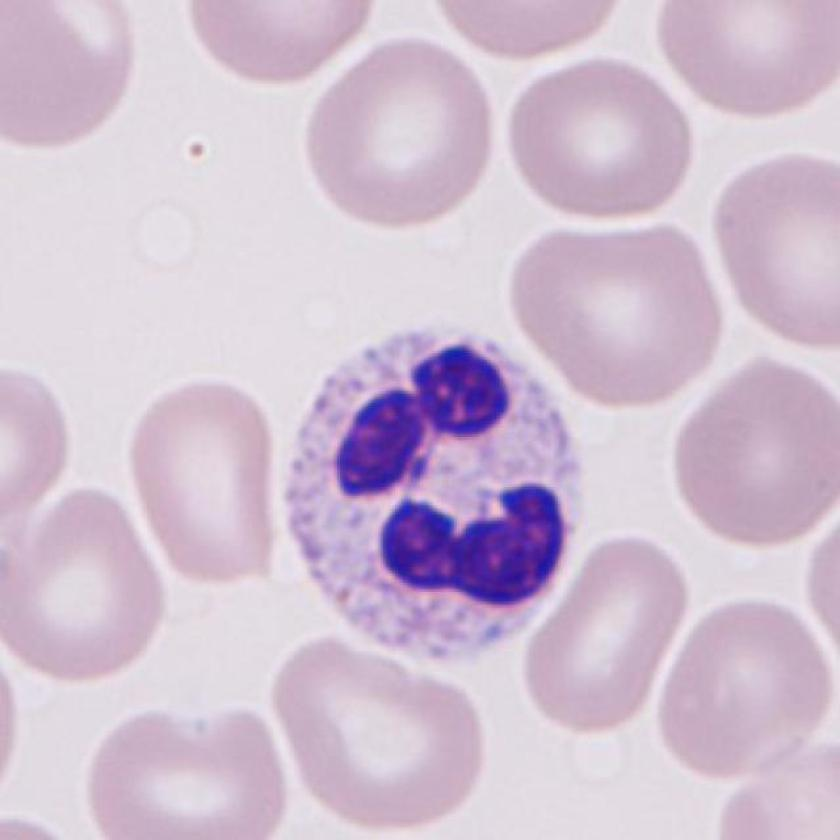neutrophil: (280, 326, 587, 664)
